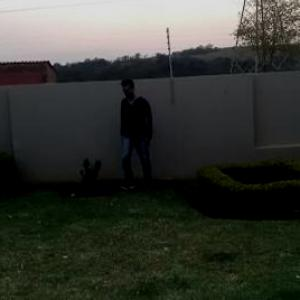follow: (120, 75, 156, 193)
